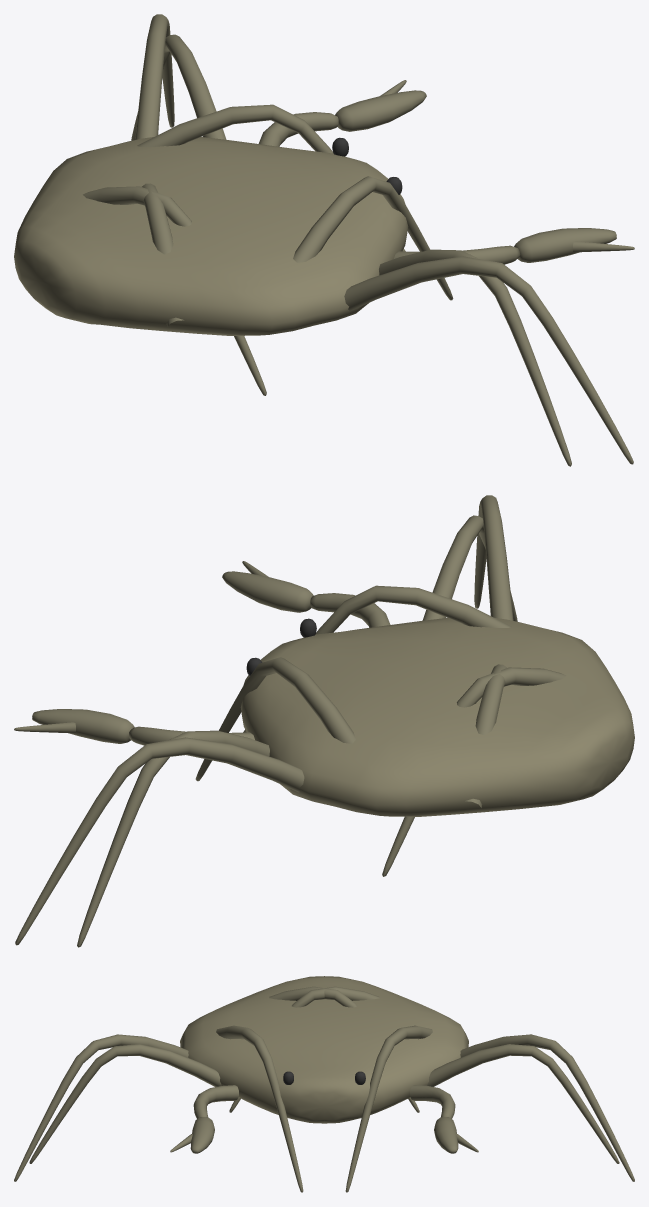
The model's file is decorator_crab.glb.
3 views of the same model, one above another, from view 1: azimuth 30°, elevation 25°; view 2: azimuth 150°, elevation 25°; view 3: azimuth 270°, elevation 25° (orthographic). The views are drawn at different scales.
Visible parts, largest first — view 1: decorator_crab; view 2: decorator_crab; view 3: decorator_crab.
Part boxes in pixels (box(x1,y1,x2,y2)): decorator_crab: box(14, 14, 634, 466); decorator_crab: box(14, 495, 634, 947); decorator_crab: box(14, 976, 634, 1192).
Size of the model in its own units: 0.0877 by 0.0303 by 0.1455.
